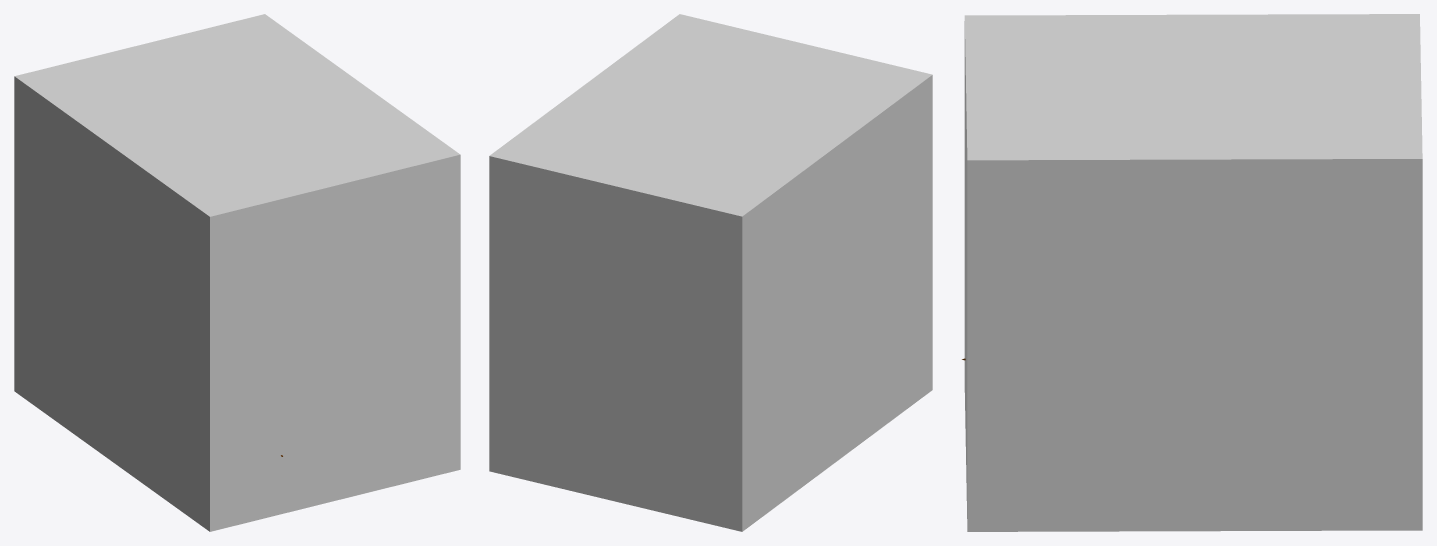
File: archer_with_box2.glb
The picture shows the model from 3 angles, left to right: view 1: azimuth 30°, elevation 25°; view 2: azimuth 150°, elevation 25°; view 3: azimuth 270°, elevation 25°; orthographic projection. The views are drawn at different scales.
Visible parts, largest first — view 1: transparentBox; view 2: transparentBox; view 3: transparentBox.
Part boxes in pixels (left/top/right/bottom): transparentBox: left=14, top=14, right=460, bottom=531; transparentBox: left=489, top=14, right=932, bottom=531; transparentBox: left=964, top=14, right=1422, bottom=531.
Bounding box in the file's own units: 3.57 × 4.44 × 4.76.
9 materials, 8 textured.
